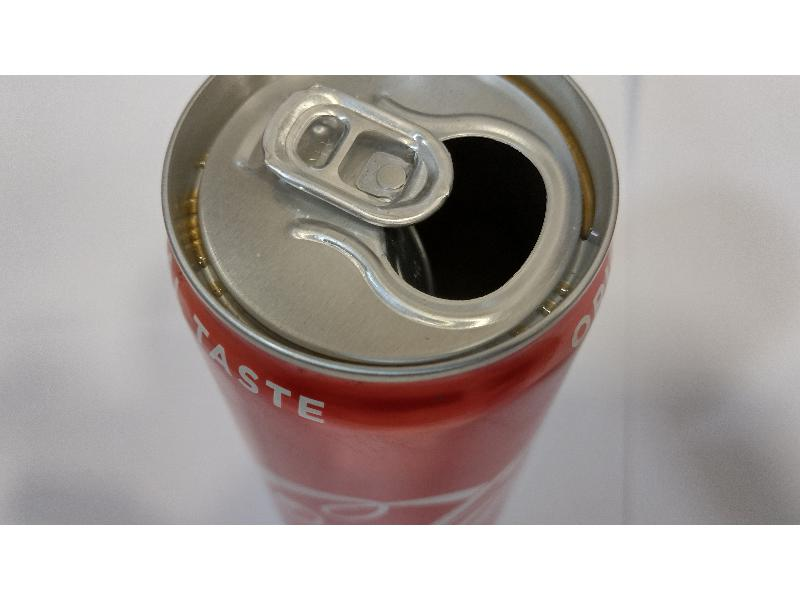can: (158, 74, 624, 522)
